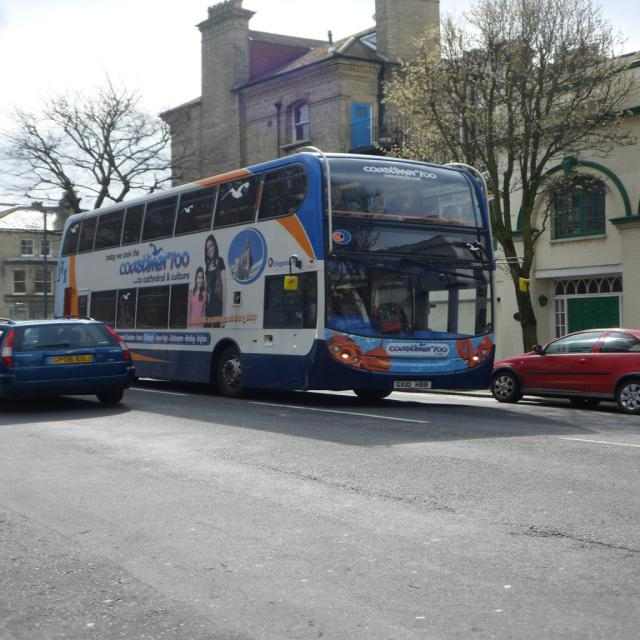car: (8, 308, 140, 402)
